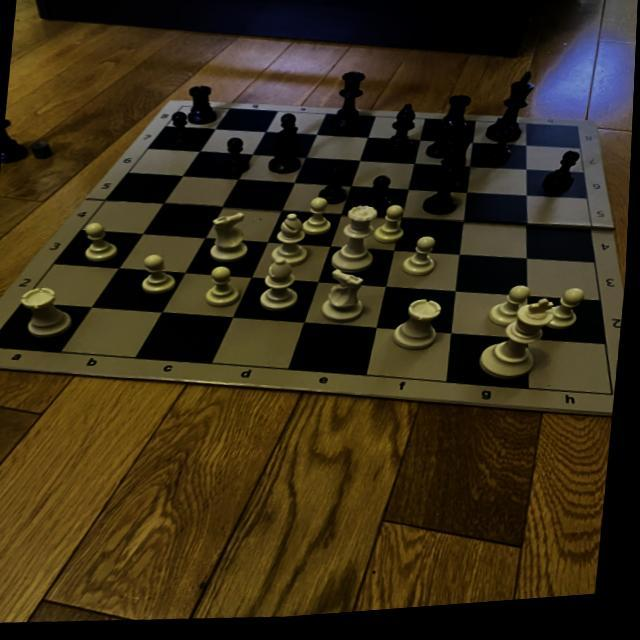chess-table-corners: (569, 130, 589, 141), (606, 396, 618, 410), (178, 106, 193, 114), (0, 337, 1, 353)
